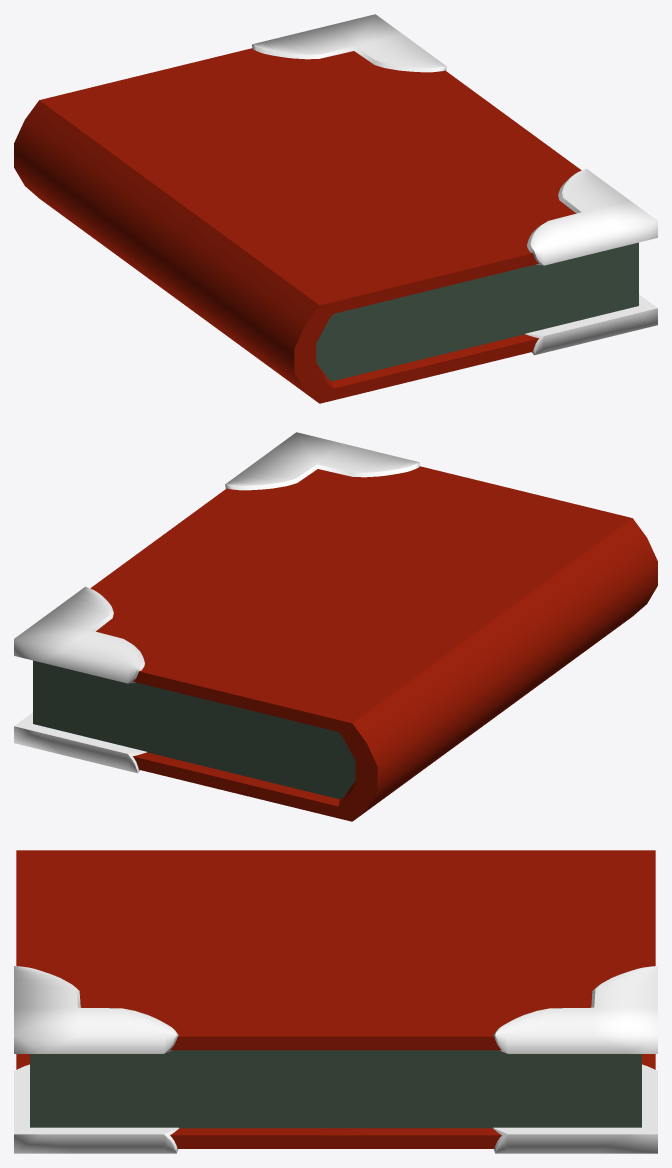
Rendered from mk_book_7.glb.
3 views of the same model, one above another, from view 1: azimuth 30°, elevation 25°; view 2: azimuth 150°, elevation 25°; view 3: azimuth 270°, elevation 25° (orthographic). The views are drawn at different scales.
Parts seen in each view (by area): view 1: Book_7; view 2: Book_7; view 3: Book_7.
Boxes of the visible parts, bbox=[...] form: Book_7: bbox=[14, 14, 657, 403]; Book_7: bbox=[14, 432, 657, 821]; Book_7: bbox=[14, 850, 657, 1153].
Bounding box in the file's own units: 0.247 × 0.0679 × 0.3333.
